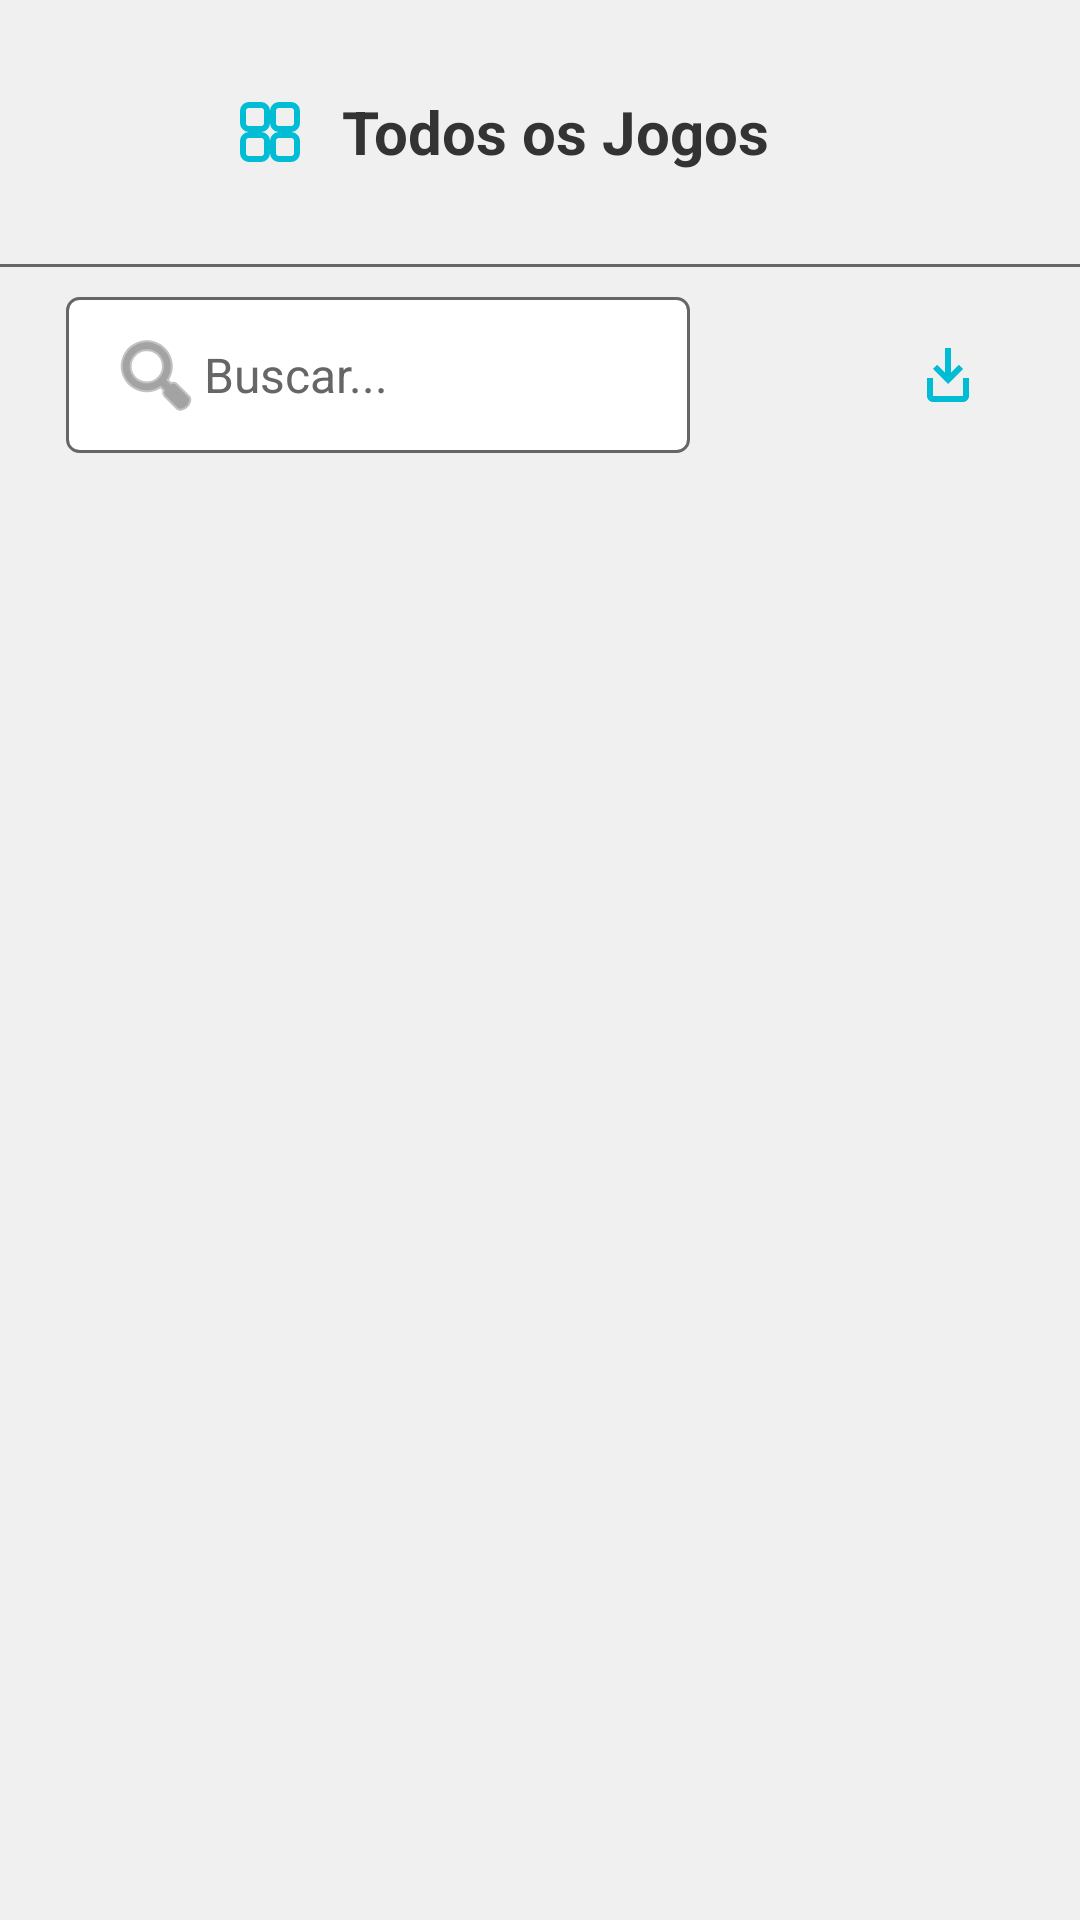

Where to tap for icons on this 1080 x 1920 app screen, as (x,y):
all games: (270,132)
Importar jogo ou patch: (948,375)
